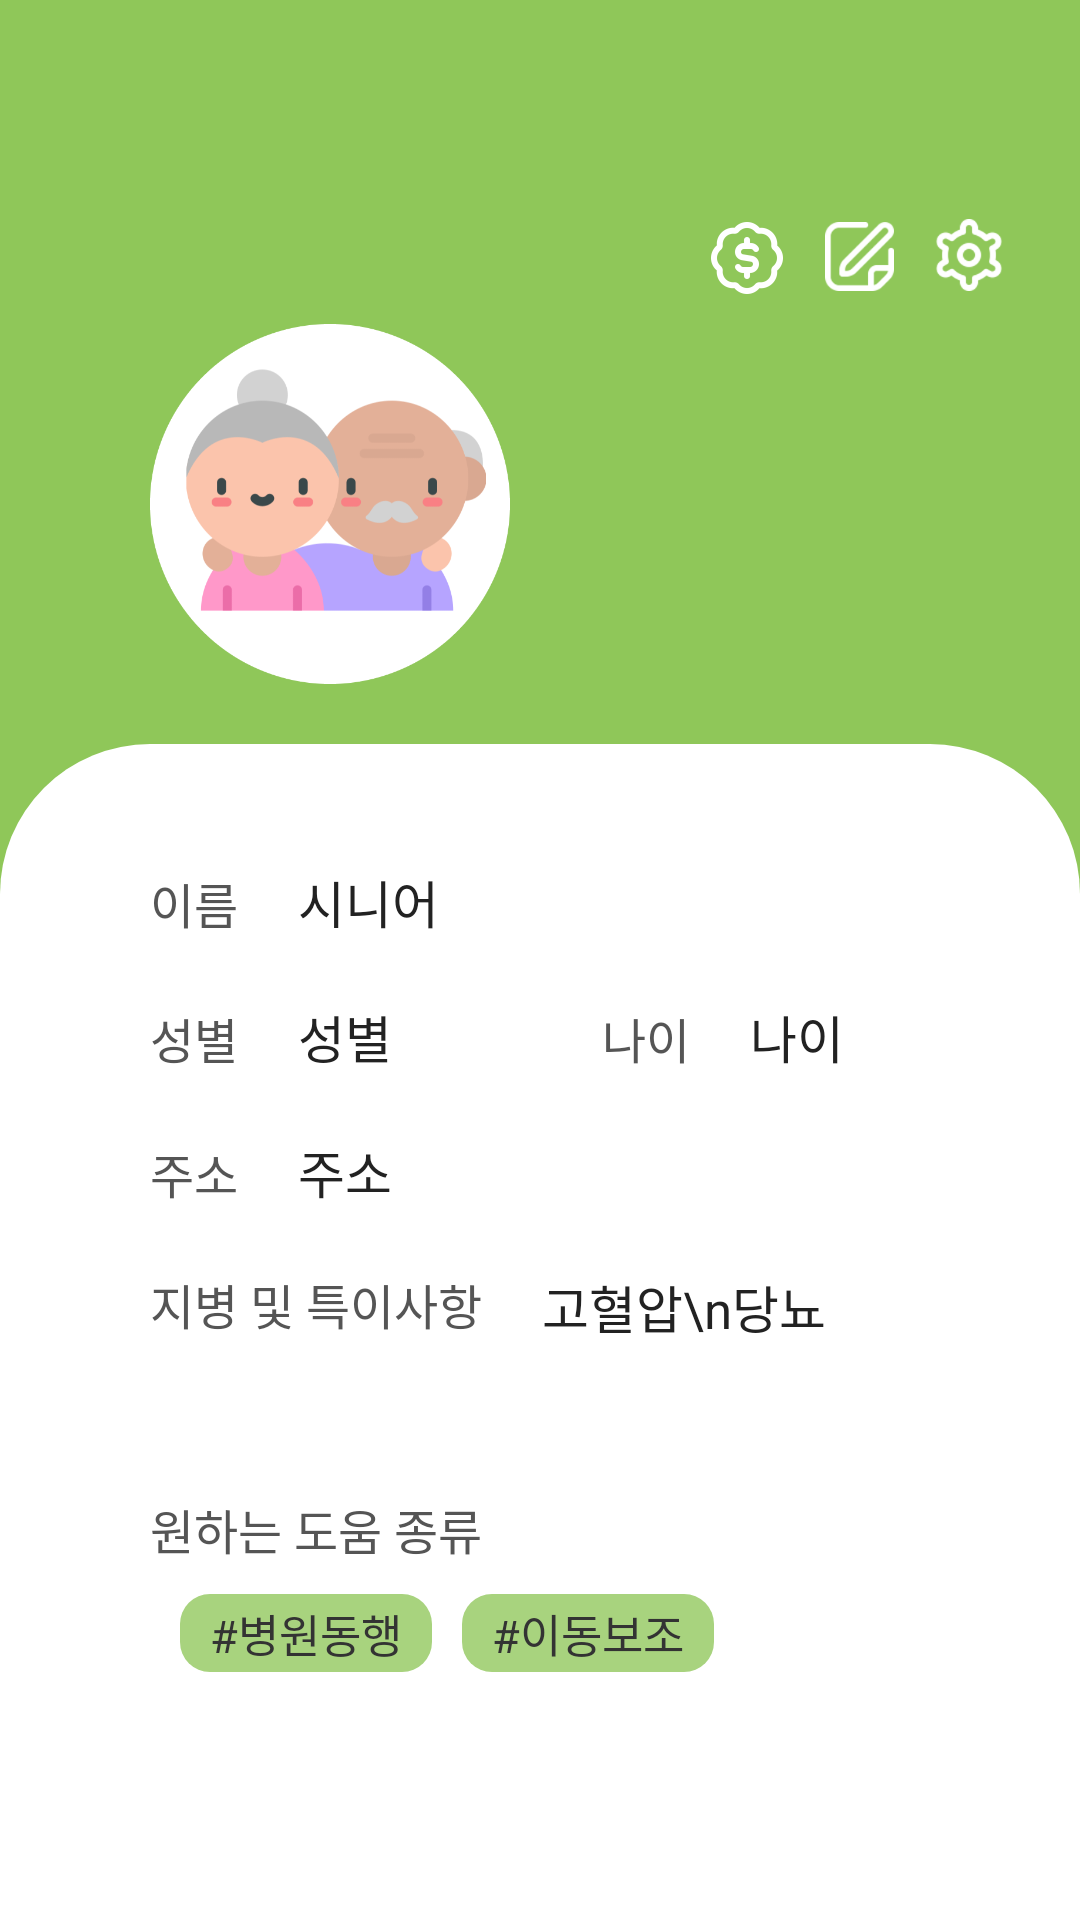

Screen size 1080 × 1920. Icon name, then its box in pixels as (x1, y1, x2, y2):
cash: (711, 222, 783, 294)
revise: (825, 222, 894, 291)
senior profile: (150, 324, 510, 684)
setting: (936, 219, 1002, 291)
